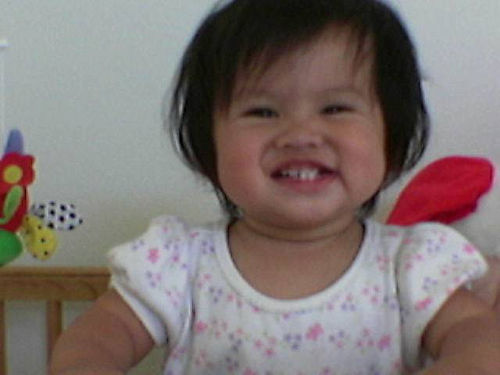without_mask: (192, 45, 402, 227)
